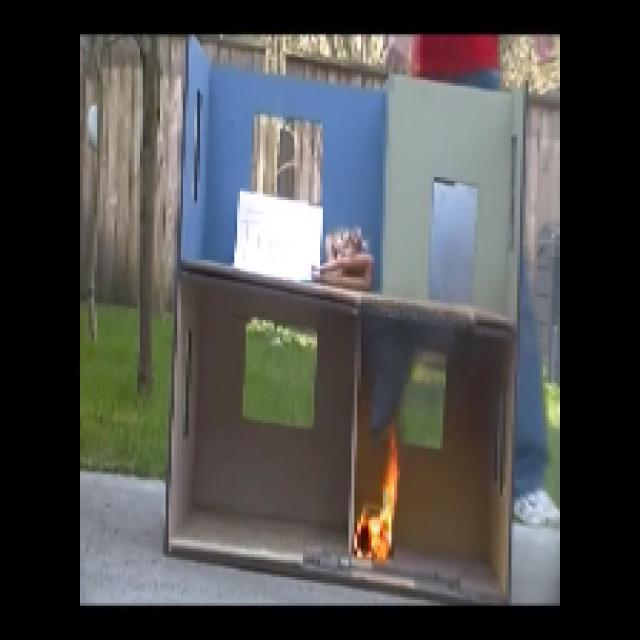Fire: (363, 450, 398, 567)
Smoke: (382, 326, 398, 418)
